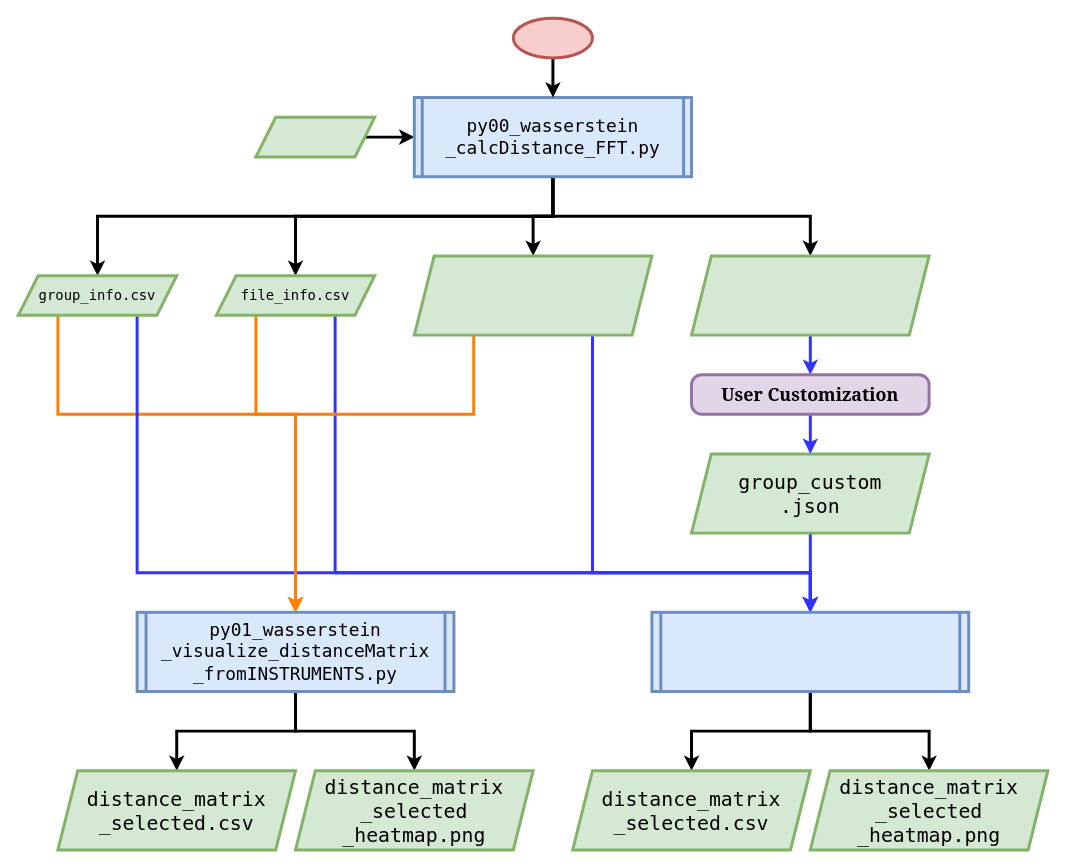
Image size: 1066x868. Some labels were removed from this diagram. The box of each missing label's shape, as (x1, y1, x2, y2) in pixels:
display_groups .json: (690, 254, 930, 336)
distance_matrix _raw.csv: (412, 254, 653, 336)
py01_wasserstein _visualize_distanceMatrix _fromJSON.py: (650, 610, 970, 693)
start: (511, 16, 594, 59)
wav/: (254, 115, 376, 158)
